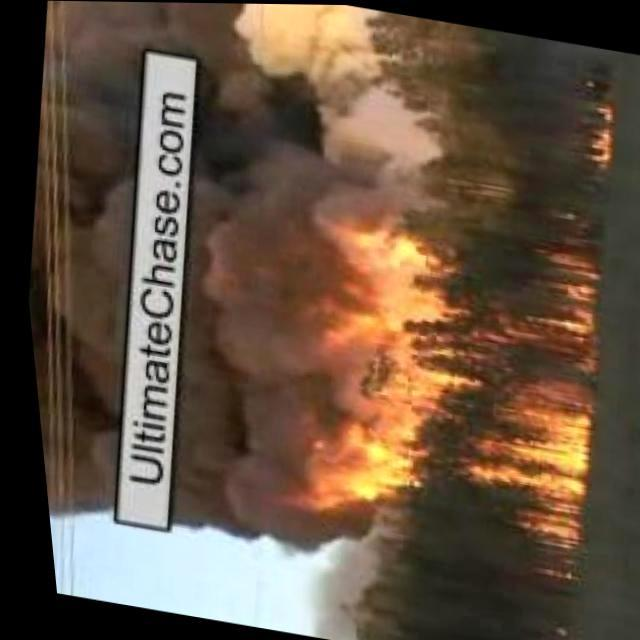fire: (247, 200, 617, 552), (584, 100, 612, 160)
